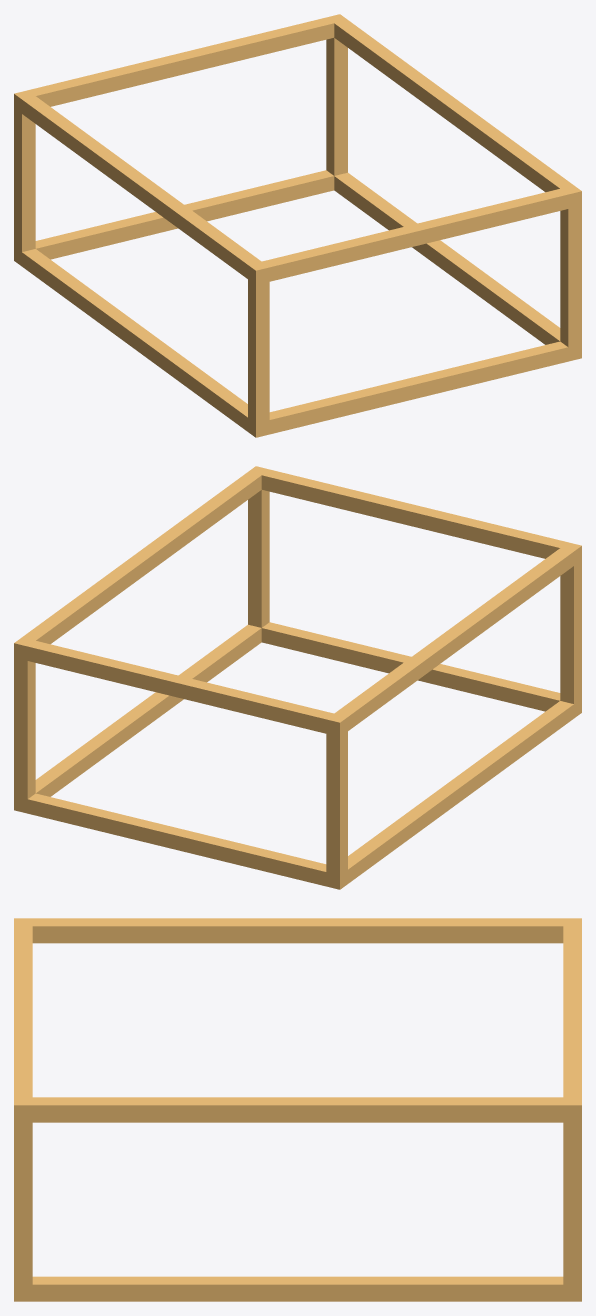
Rendered from goggles.glb.
The picture shows the model from 3 angles, top to bottom: view 1: azimuth 30°, elevation 25°; view 2: azimuth 150°, elevation 25°; view 3: azimuth 270°, elevation 25°; orthographic projection. The views are drawn at different scales.
Visible parts, largest first — view 1: box_0; view 2: box_0; view 3: box_0.
Part boxes in pixels (x1,y1,x2,y2): box_0: (14,14,581,437); box_0: (14,466,581,889); box_0: (14,918,581,1301).
Bounding box in the file's own units: 0.2366 × 0.1159 × 0.3041.
